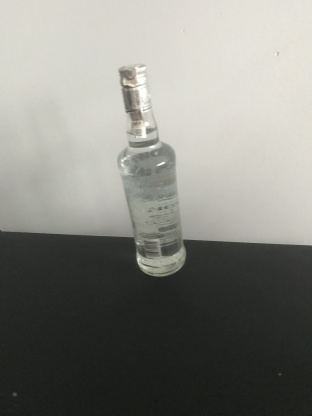nakretka: (116, 62, 153, 112)
